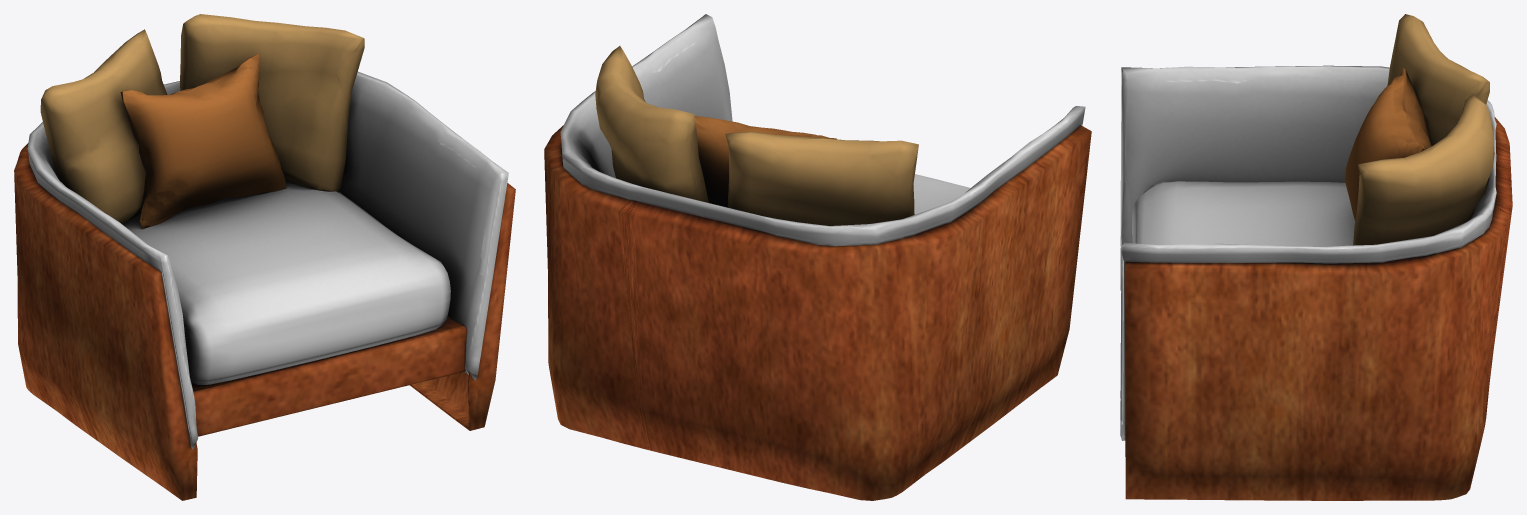
The model's file is Alzena_Accent_Chair.fbx.
3 renders of one model, left to right at view 1: azimuth 30°, elevation 25°; view 2: azimuth 150°, elevation 25°; view 3: azimuth 270°, elevation 25°, orthographic. The views are drawn at different scales.
Parts seen in each view (by area): view 1: Alzena Accent Chair; view 2: Alzena Accent Chair; view 3: Alzena Accent Chair.
Part boxes in pixels (left/top/right/bottom): Alzena Accent Chair: left=14, top=14, right=515, bottom=500; Alzena Accent Chair: left=544, top=14, right=1091, bottom=500; Alzena Accent Chair: left=1120, top=14, right=1512, bottom=500.
Size of the model in its own units: 1.64 by 1.33 by 1.4.
